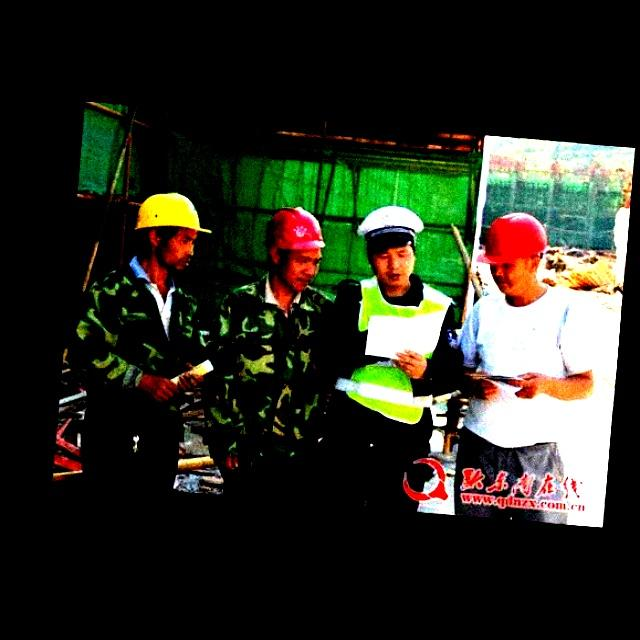helmet: (473, 206, 559, 269), (250, 204, 338, 262), (127, 187, 218, 240)
safety_vest: (349, 268, 442, 432)
